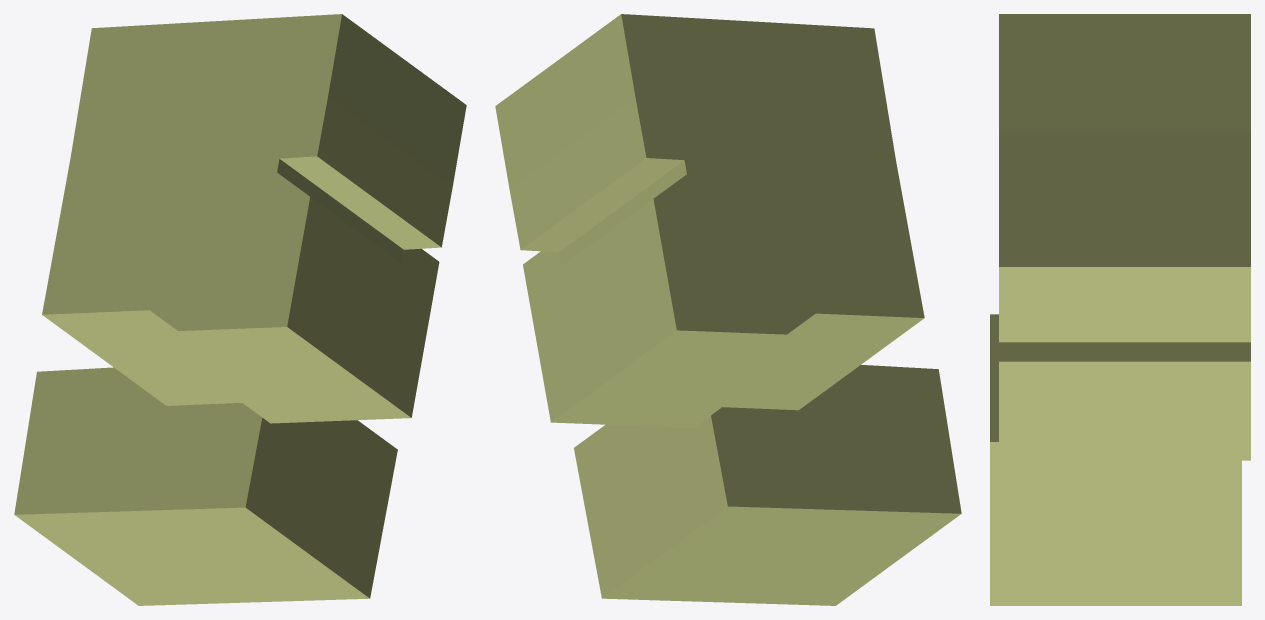
3 renders of one model, left to right at view 1: azimuth 30°, elevation 25°; view 2: azimuth 150°, elevation 25°; view 3: azimuth 270°, elevation 25°, orthographic.
Visible parts, largest first — view 1: 0_1_2_0_3_3_2_1_3_0; view 2: 0_1_2_0_3_3_2_1_3_0; view 3: 0_1_2_0_3_3_2_1_3_0.
Part boxes in pixels (box(x1,y1,x2,y2)): 0_1_2_0_3_3_2_1_3_0: box(14, 14, 466, 605); 0_1_2_0_3_3_2_1_3_0: box(495, 14, 961, 605); 0_1_2_0_3_3_2_1_3_0: box(990, 14, 1250, 605).
Size of the model in its own units: 13.86 by 20.43 by 9.32.
